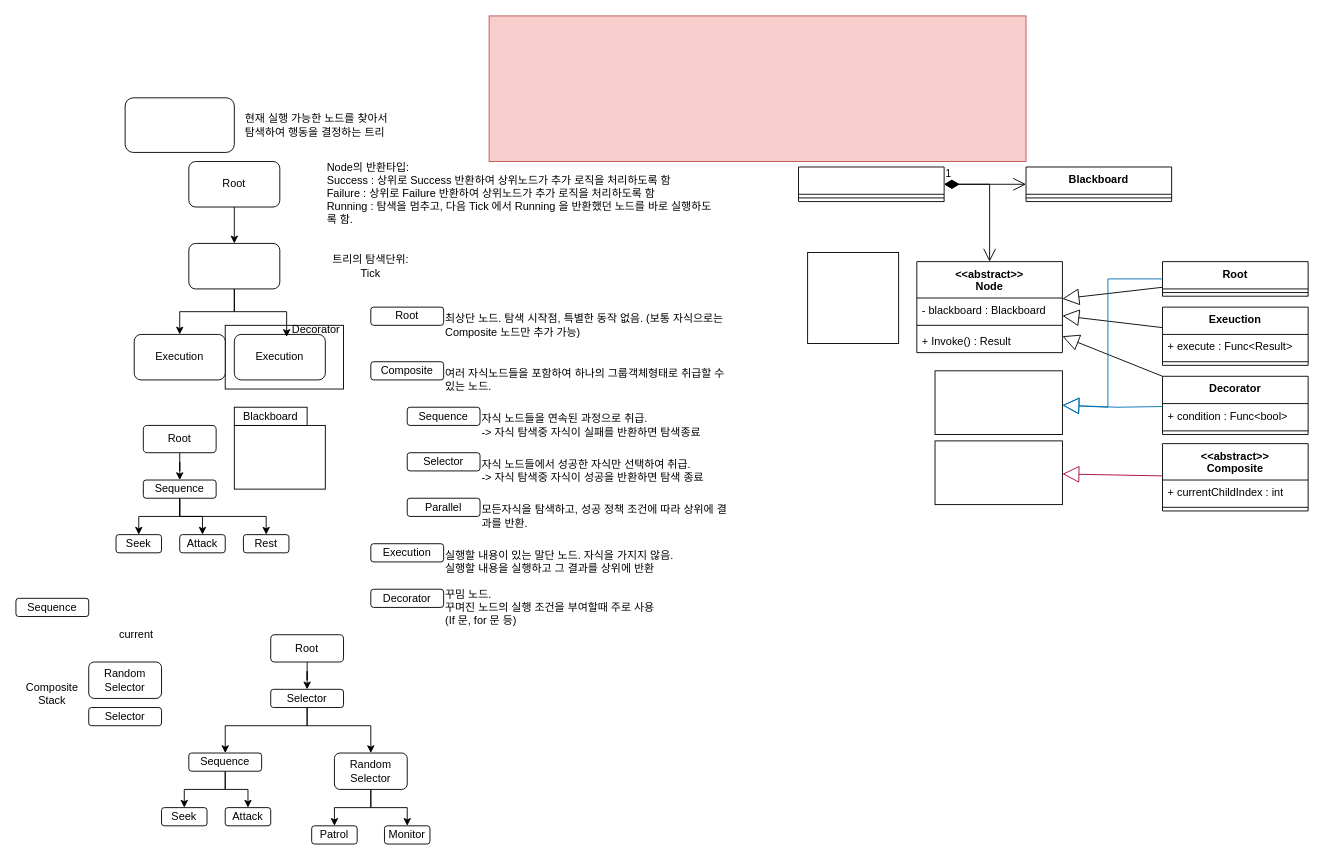
Image size: 1324x860. Some labels were removed from this diagram. The shapes that lost their labels are listed below. From the top down, each one's centre as x and y in pixels, then its label:
At pixel 757 88: "본인 프로젝트에 NPC 의 행동패턴 퀘스트 관리 다이얼로그시스템 그 외 연출 로직 필요하다면 사용해보는게 좋음. 과제전형에서 많이 사용함".
At pixel 179 124: "행동 트리 (Behaviour tree)".
At pixel 871 184: "Tree".
At pixel 234 266: "Control flow (Composite)".
At pixel 853 298: "«enum» Result Success Failure Running".
At pixel 998 402: "«interface» IParentOfChild {get, set} child : Node".
At pixel 279 457: "target : ??".
At pixel 998 472: "«interface» IParentOfChildren {get, set} children : List<Node>".
